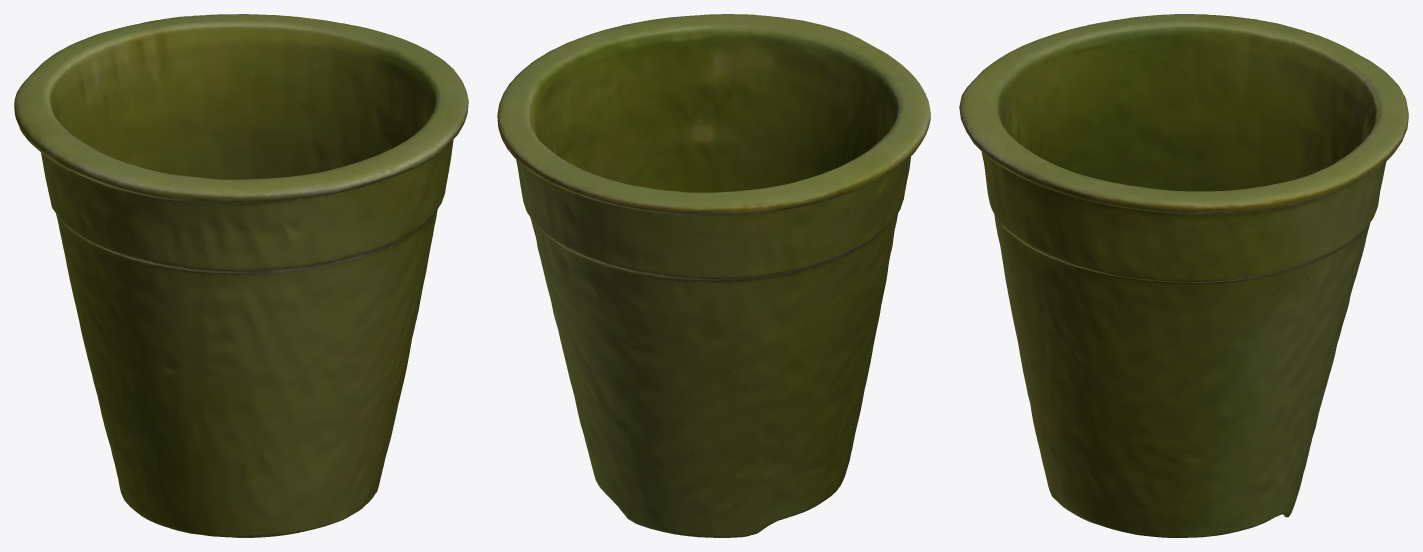
File: Ecoforms_Planter_Pot_GP12AAvocado.glb
The picture shows the model from 3 angles, left to right: view 1: azimuth 30°, elevation 25°; view 2: azimuth 150°, elevation 25°; view 3: azimuth 270°, elevation 25°; orthographic projection. The views are drawn at different scales.
Visible parts, largest first — view 1: geometry_0; view 2: geometry_0; view 3: geometry_0.
Boxes of the visible parts, box(x1,y1,x2,y2) form: geometry_0: box(14, 14, 468, 537); geometry_0: box(497, 14, 930, 537); geometry_0: box(959, 14, 1408, 537).
Bounding box in the file's own units: 0.9717 × 0.9602 × 0.9786.
Materials: 1 (1 with a texture image).
